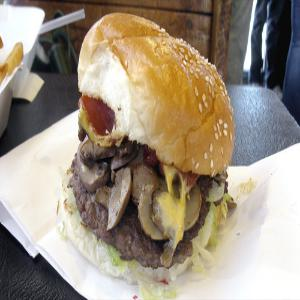cheeseburger_475cal: (62, 2, 241, 299)
